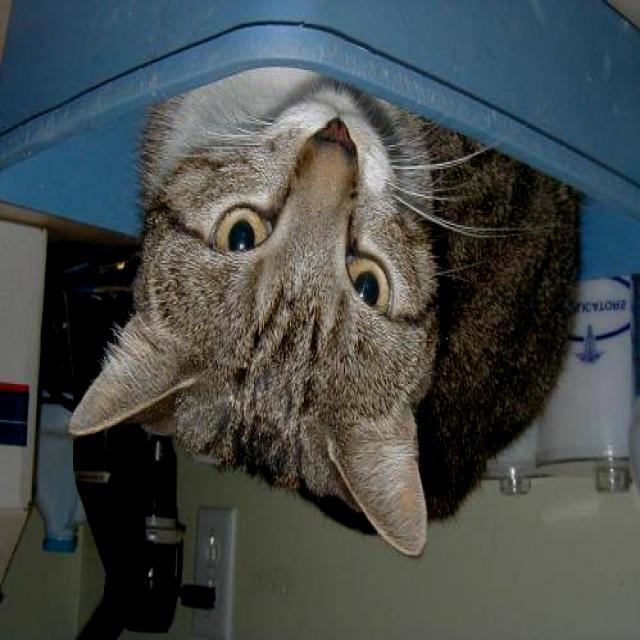Kucing: (38, 61, 585, 566)
